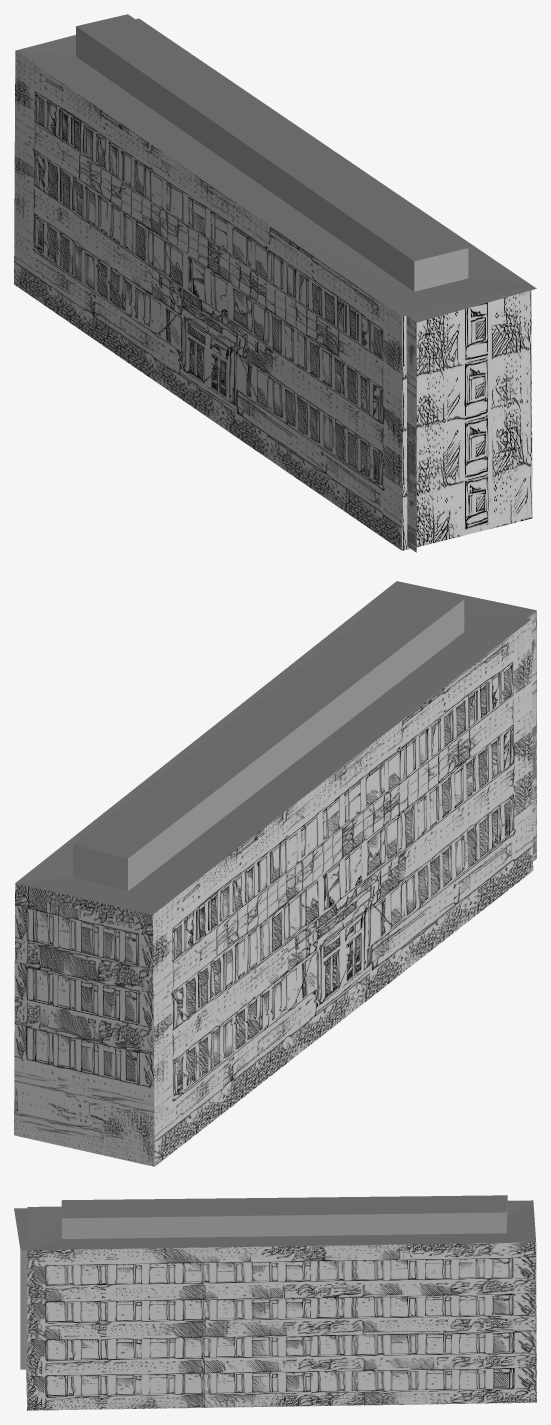
The model's file is Walther-Hempel-Bau.gltf.
The picture shows the model from 3 angles, top to bottom: view 1: azimuth 30°, elevation 25°; view 2: azimuth 150°, elevation 25°; view 3: azimuth 270°, elevation 25°; orthographic projection. The views are drawn at different scales.
Visible parts, largest first — view 1: Dach.1; view 2: Dach.1; view 3: Dach.1.
Boxes of the visible parts, x1,y1,x2,y2 form: Dach.1: (14,14,536,552); Dach.1: (14,581,536,1166); Dach.1: (14,1195,536,1410).
Size of the model in its own units: 17.16 by 28.7 by 75.65.
Materials: 8 (5 with a texture image).
